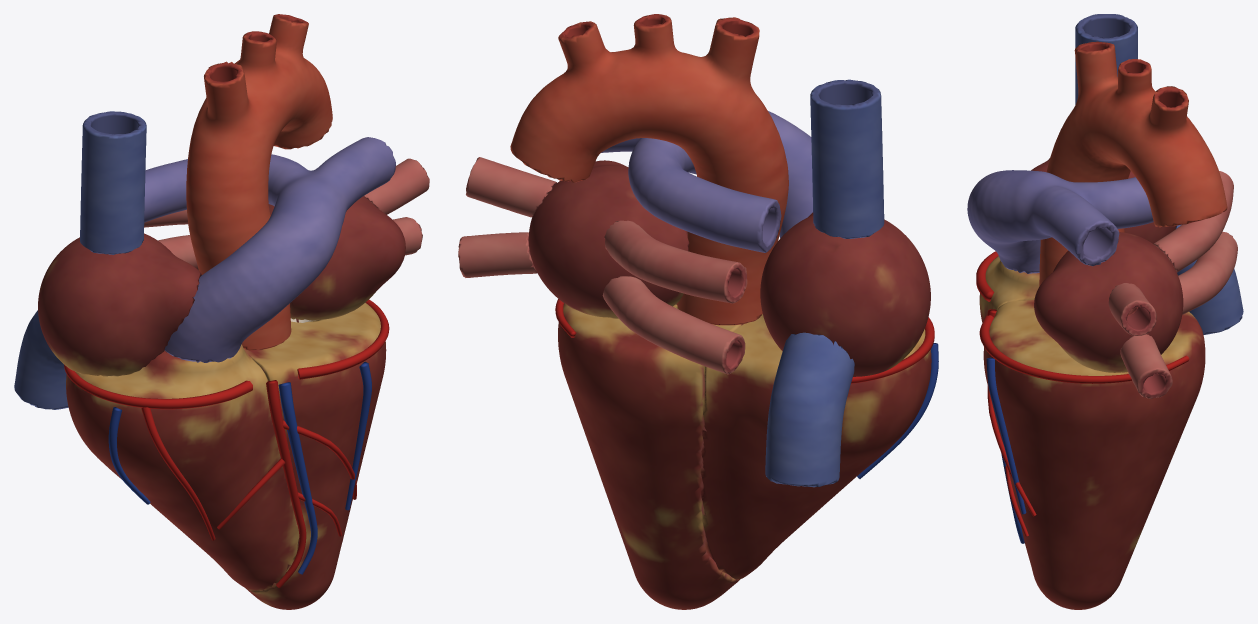
File: coeur.glb
3 views of the same model, side by side, from view 1: azimuth 30°, elevation 25°; view 2: azimuth 150°, elevation 25°; view 3: azimuth 270°, elevation 25° (orthographic). The views are drawn at different scales.
Parts seen in each view (by area): view 1: ventricule_droit, aorte, artere_pulmonaire, ventricule_gauche, oreillette_droite, veine_cave_superieure, arteres_coronaires, oreillette_gauche, veines_pulmonaires, veines_coronaires, veine_cave_inferieure; view 2: aorte, ventricule_gauche, ventricule_droit, oreillette_droite, veines_pulmonaires, artere_pulmonaire, oreillette_gauche, veine_cave_inferieure, veine_cave_superieure, arteres_coronaires, veines_coronaires; view 3: ventricule_gauche, aorte, artere_pulmonaire, oreillette_gauche, veines_pulmonaires, arteres_coronaires, veine_cave_superieure, ventricule_droit, veine_cave_inferieure, veines_coronaires, oreillette_droite.
Part boxes in pixels (x1=…): ventricule_droit: x1=66, y1=344, x2=299, y2=590; aorte: x1=186, y1=14, x2=332, y2=350; artere_pulmonaire: x1=144, y1=137, x2=395, y2=362; ventricule_gauche: x1=244, y1=303, x2=386, y2=609; oreillette_droite: x1=38, y1=233, x2=201, y2=376; veine_cave_superieure: x1=80, y1=111, x2=146, y2=254; arteres_coronaires: x1=64, y1=299, x2=389, y2=587; oreillette_gauche: x1=268, y1=196, x2=405, y2=320; veines_pulmonaires: x1=144, y1=158, x2=429, y2=270; veines_coronaires: x1=108, y1=361, x2=371, y2=574; veine_cave_inferieure: x1=14, y1=310, x2=68, y2=409; aorte: x1=510, y1=14, x2=788, y2=325; ventricule_gauche: x1=558, y1=303, x2=743, y2=609; ventricule_droit: x1=700, y1=314, x2=931, y2=579; oreillette_droite: x1=760, y1=212, x2=930, y2=376; veines_pulmonaires: x1=458, y1=157, x2=747, y2=374; artere_pulmonaire: x1=601, y1=111, x2=812, y2=252; oreillette_gauche: x1=528, y1=160, x2=689, y2=318; veine_cave_inferieure: x1=765, y1=332, x2=854, y2=487; veine_cave_superieure: x1=810, y1=79, x2=884, y2=238; arteres_coronaires: x1=555, y1=299, x2=934, y2=383; veines_coronaires: x1=857, y1=343, x2=938, y2=478; ventricule_gauche: x1=983, y1=300, x2=1205, y2=609; aorte: x1=1039, y1=41, x2=1227, y2=286; artere_pulmonaire: x1=967, y1=170, x2=1153, y2=273; oreillette_gauche: x1=1034, y1=232, x2=1183, y2=372; veines_pulmonaires: x1=1108, y1=171, x2=1237, y2=398; arteres_coronaires: x1=976, y1=251, x2=1189, y2=536; veine_cave_superieure: x1=1075, y1=14, x2=1137, y2=104; ventricule_droit: x1=979, y1=256, x2=1039, y2=322; veine_cave_inferieure: x1=1175, y1=224, x2=1243, y2=334; veines_coronaires: x1=986, y1=357, x2=1026, y2=543; oreillette_droite: x1=1031, y1=158, x2=1176, y2=243.
Bounding box in the file's own units: 11.06 × 14.79 × 6.84.
